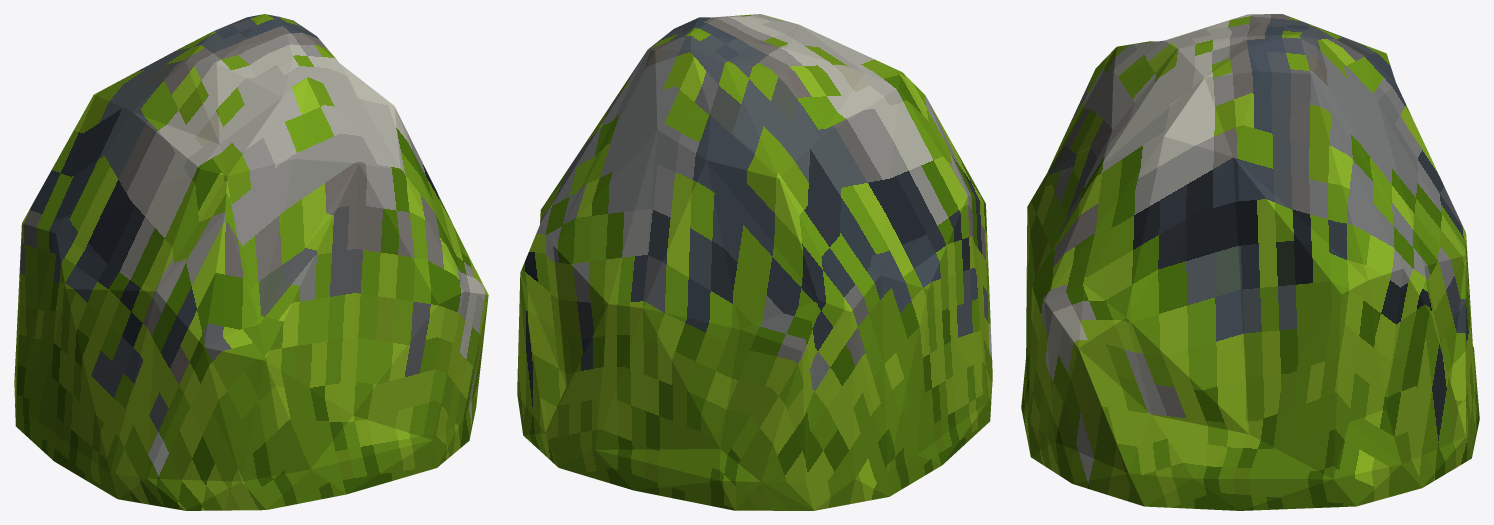
File: medium_rock.obj
The picture shows the model from 3 angles, left to right: view 1: azimuth 30°, elevation 25°; view 2: azimuth 150°, elevation 25°; view 3: azimuth 270°, elevation 25°; orthographic projection. The views are drawn at different scales.
Visible parts, largest first — view 1: Cube; view 2: Cube; view 3: Cube.
Boxes of the visible parts, x1=… form: Cube: x1=14, y1=14, x2=488, y2=510; Cube: x1=517, y1=14, x2=992, y2=510; Cube: x1=1021, y1=14, x2=1479, y2=510.
Bounding box in the file's own units: 0.962 × 0.9318 × 0.9602.
1 material, 1 textured.
